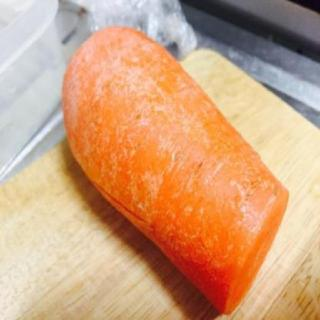carrot: (61, 24, 291, 320)
